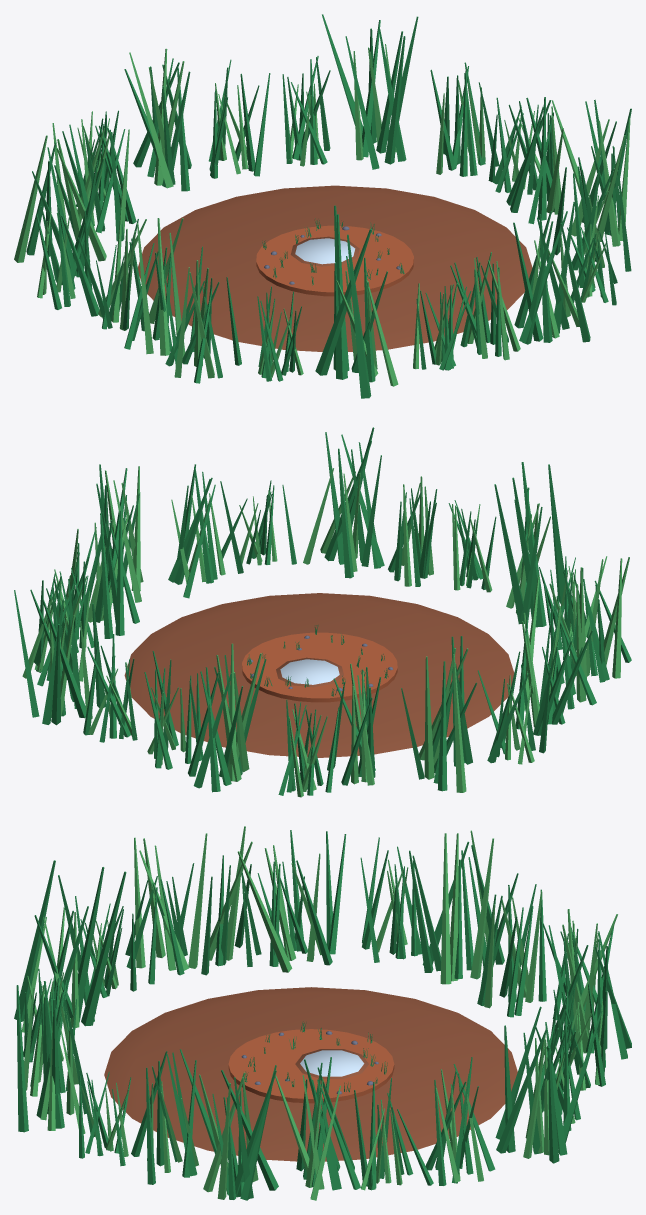
The model's file is clot_toad.glb.
3 renders of one model, top to bottom at view 1: azimuth 30°, elevation 25°; view 2: azimuth 150°, elevation 25°; view 3: azimuth 270°, elevation 25°, orthographic. The views are drawn at different scales.
Visible parts, largest first — view 1: ClotToadGround; view 2: ClotToadGround; view 3: ClotToadGround.
Part boxes in pixels (x1,y1,x2,y2): ClotToadGround: [14, 14, 631, 398]; ClotToadGround: [14, 427, 631, 797]; ClotToadGround: [14, 826, 631, 1200].
Size of the model in its own units: 46.13 by 12.74 by 44.72.
Materials: 1 (1 with a texture image).
